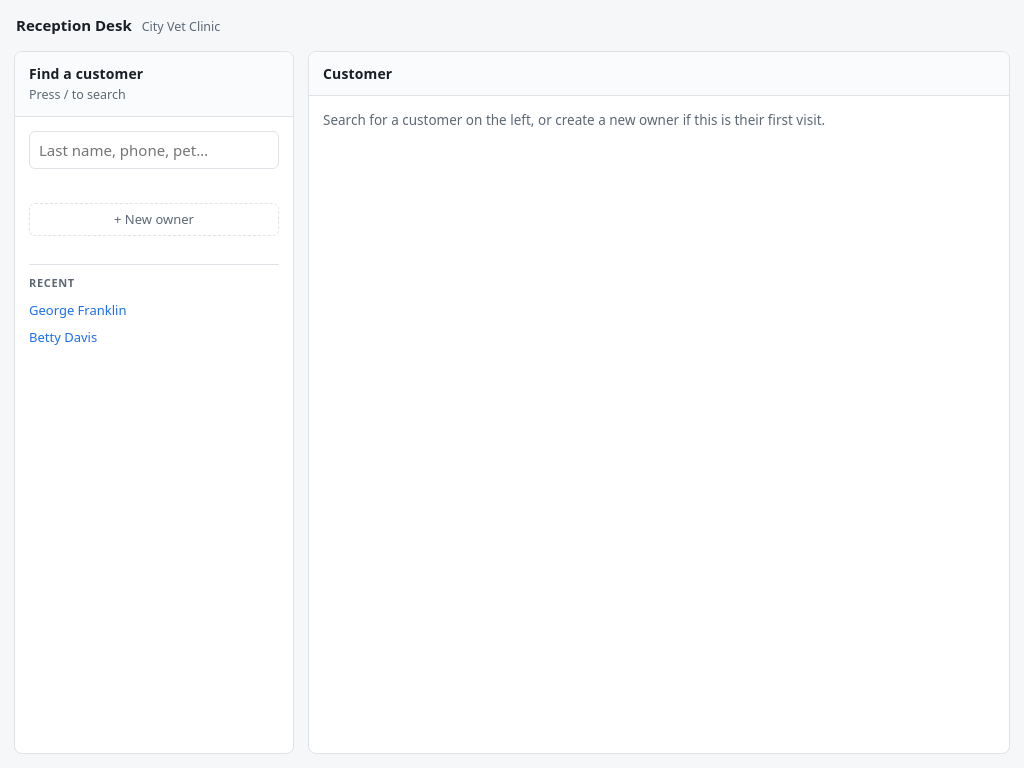
Test: reception desk workflow › updates the detail view AND the search row when a pet is renamed
The image size is (1024, 768).
Type "Franklin" into the field named "search by last name" at [154, 150], box [29, 130, 279, 169]
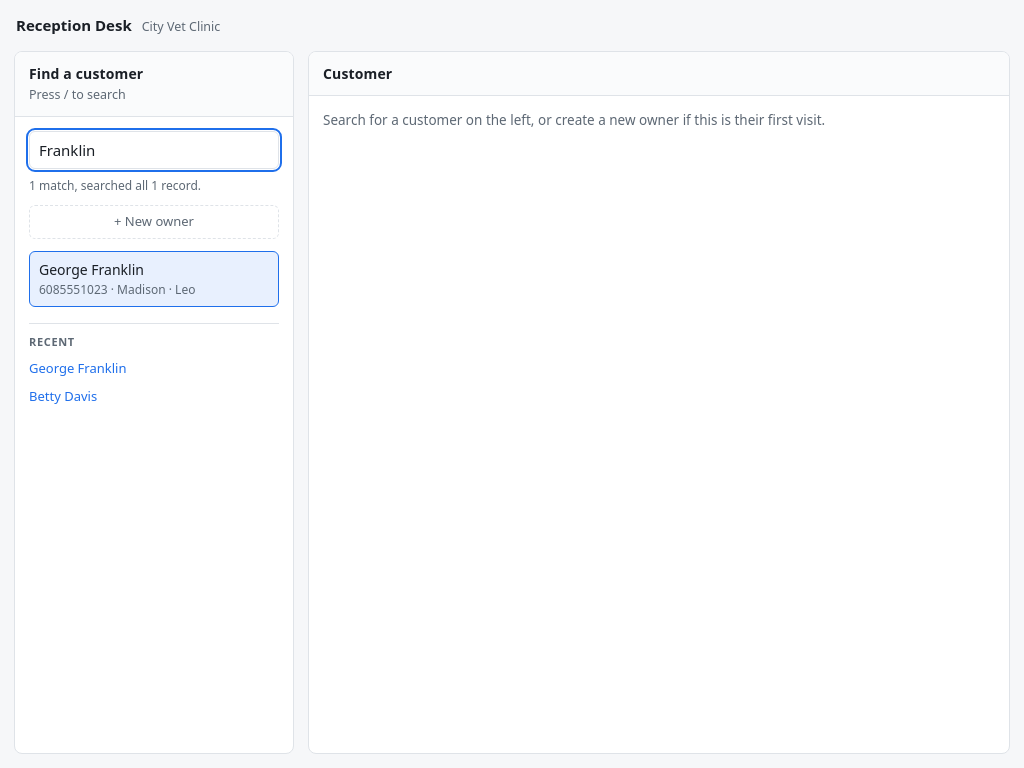
Click the button "George Franklin 6085551023 · Madison · Leo" at [154, 278], box [29, 250, 279, 306]
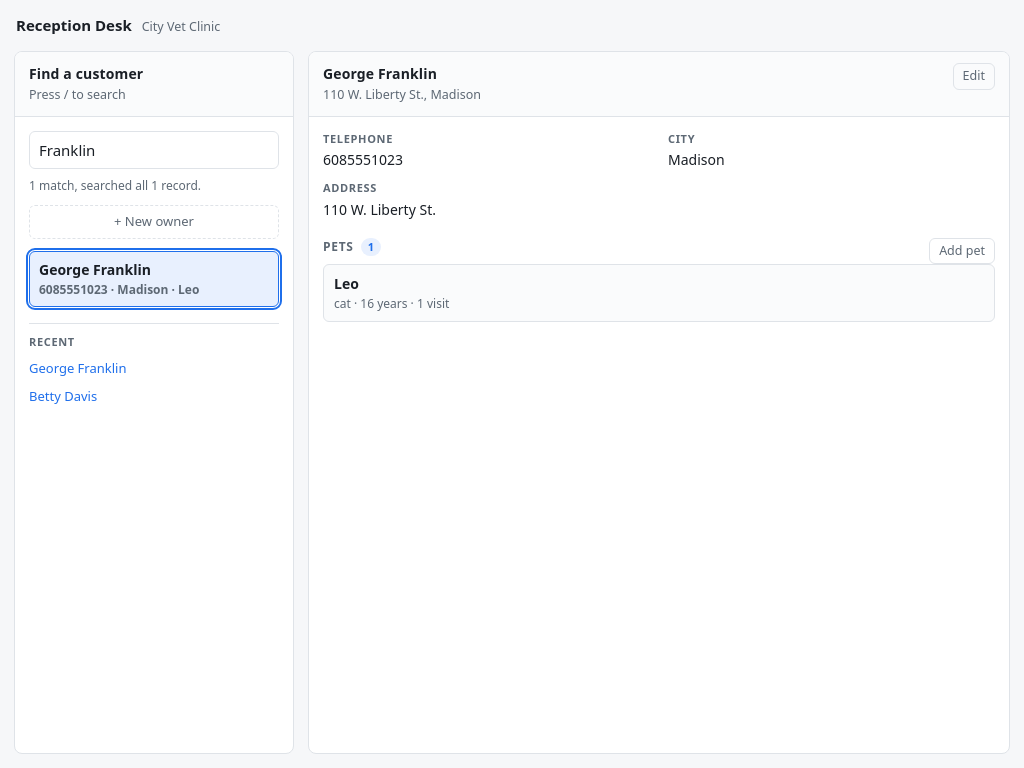
Click the button "Leo cat · 16 years · 1 visit" at [384, 304], box [323, 264, 995, 322]
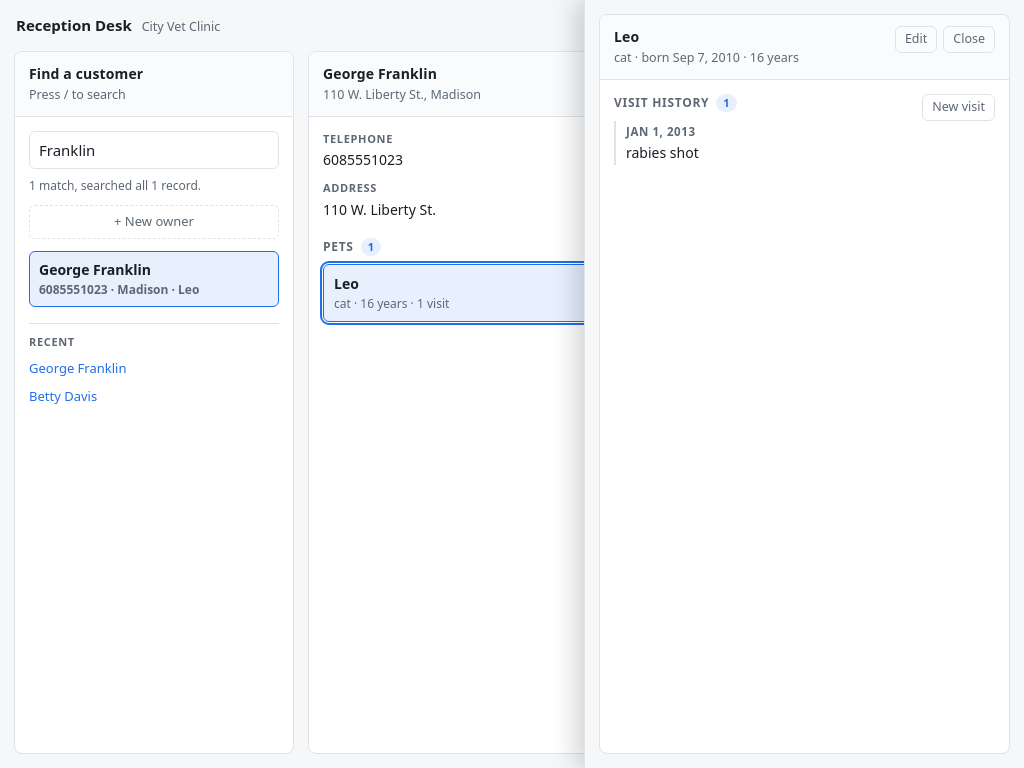
Click the button "Edit" at [916, 39], box [895, 26, 937, 53]
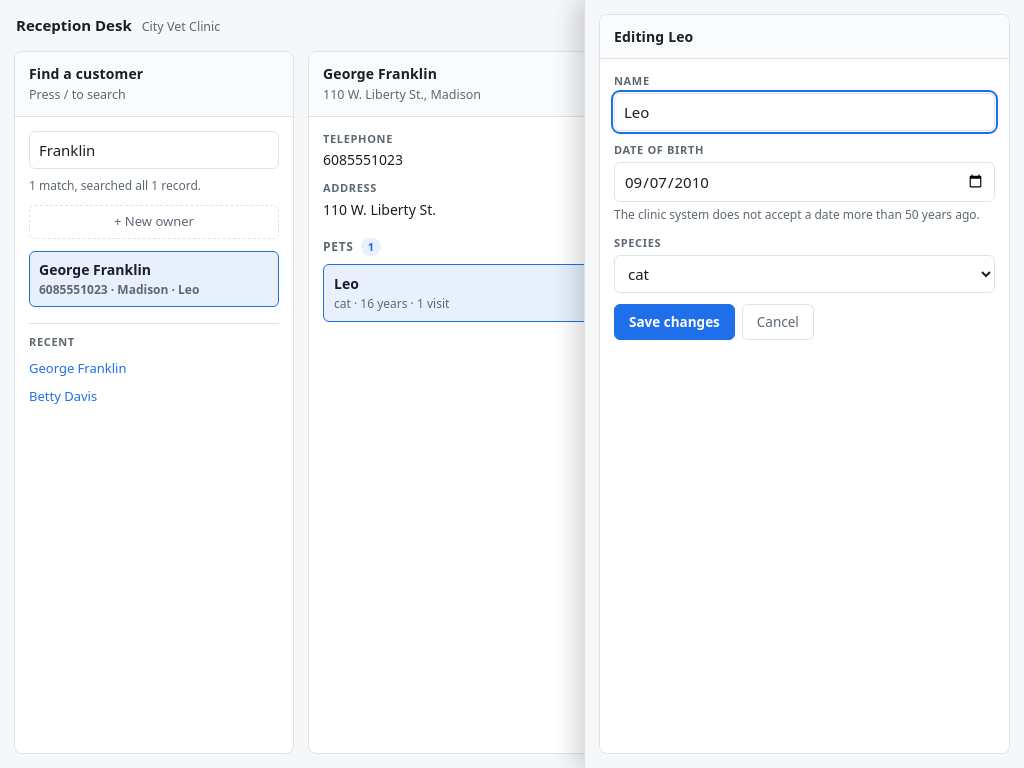
Replace the text in the field labelled "Name" with "Leo Minor" at [804, 112], box [614, 92, 995, 131]
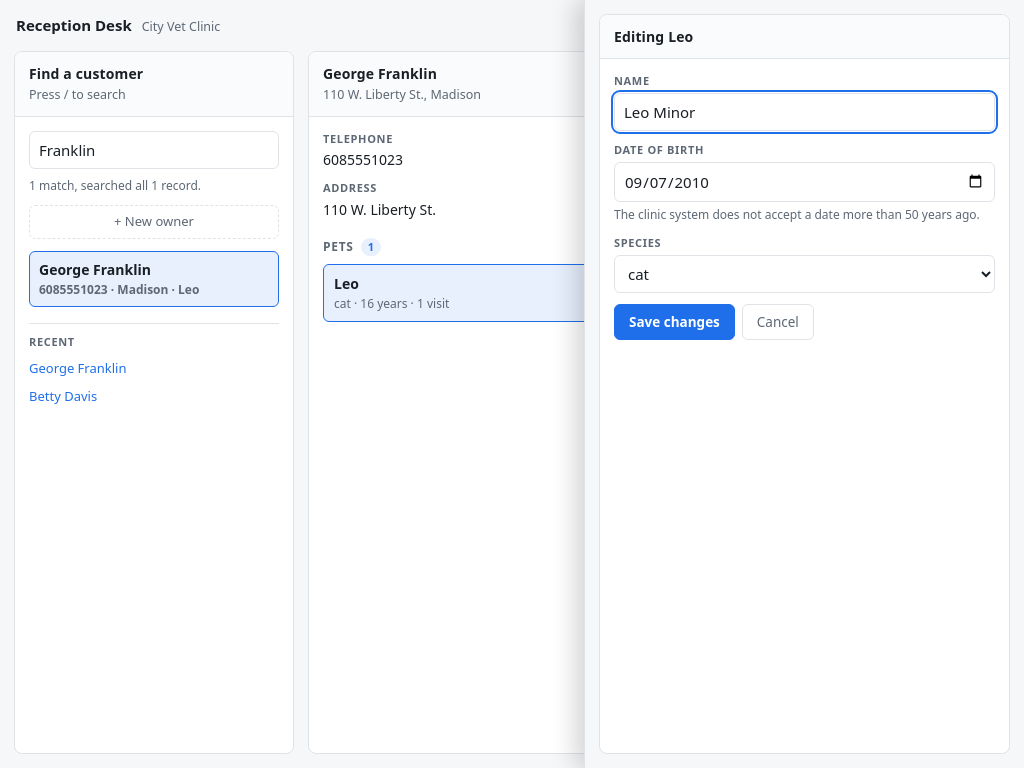
Click the button "Save changes" at [674, 322], box [614, 304, 735, 340]
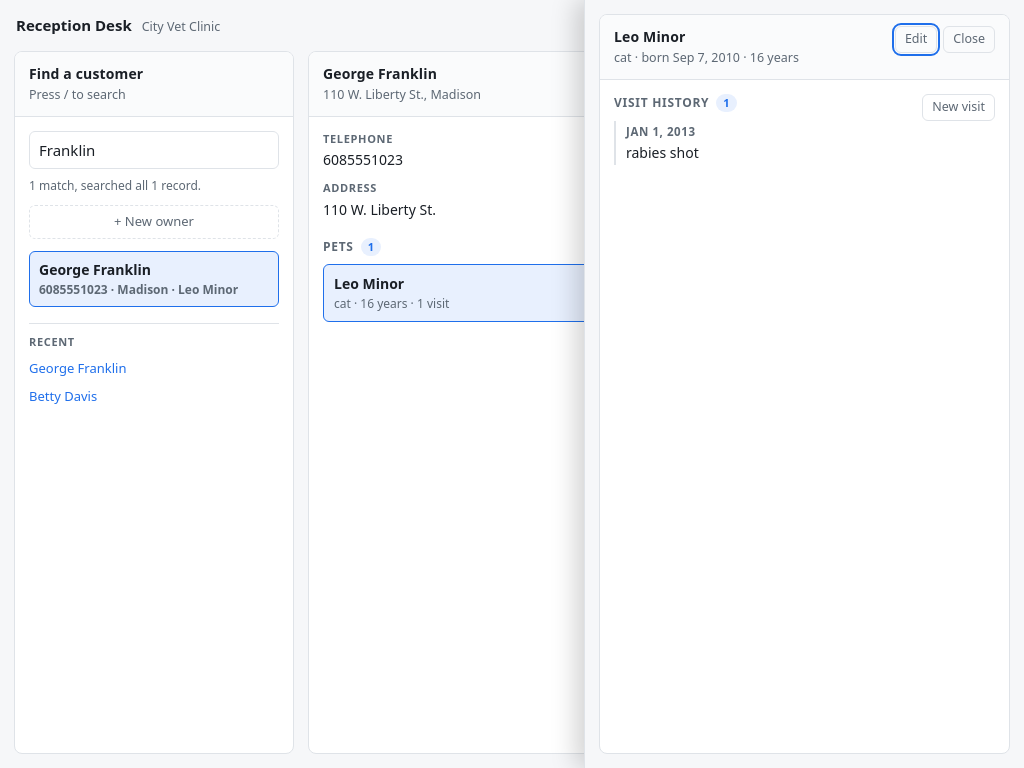
Expected: the heading "Leo Minor" is shown, [614, 27, 686, 46]
Expected: the text "Leo Minor" is shown, [334, 274, 404, 293]
Expected: the text "6085551023 · Madison · Leo Minor" is shown, [39, 280, 269, 298]
